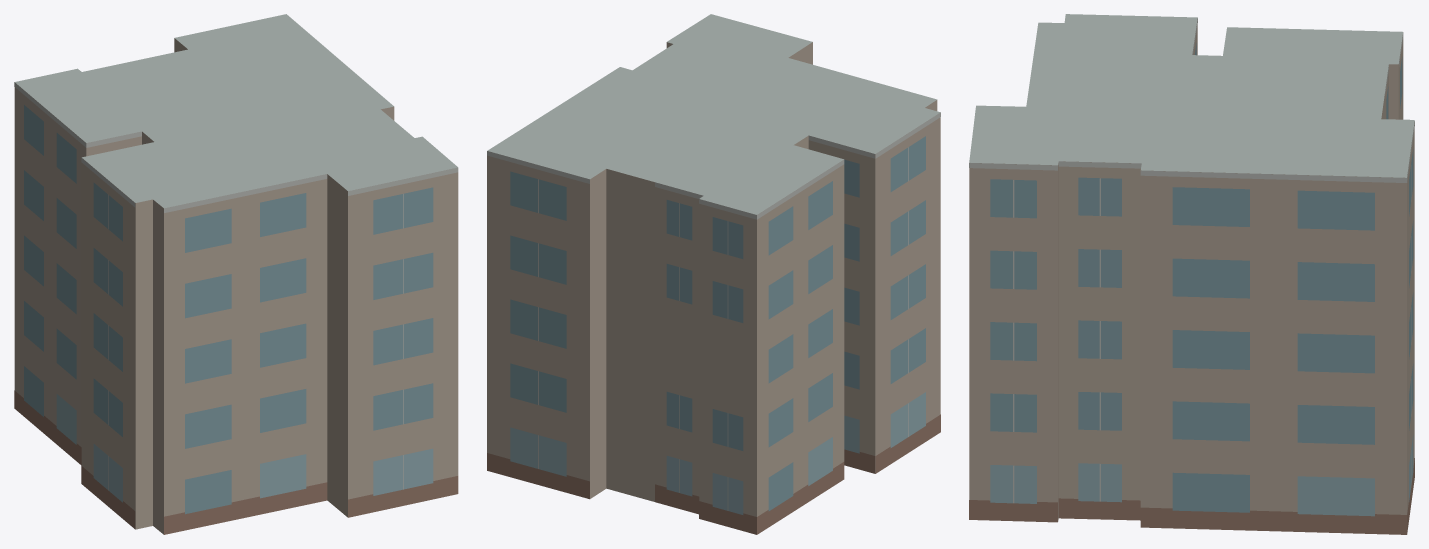
The model's file is survey-upis-32564474.glb.
3 views of the same model, side by side, from view 1: azimuth 30°, elevation 25°; view 2: azimuth 150°, elevation 25°; view 3: azimuth 270°, elevation 25° (orthographic). The views are drawn at different scales.
Parts seen in each view (by area): view 1: survey-upis-32564474.tmp; view 2: survey-upis-32564474.tmp; view 3: survey-upis-32564474.tmp.
Part boxes in pixels (x1,y1,x2,y2): survey-upis-32564474.tmp: (14, 14, 458, 534); survey-upis-32564474.tmp: (487, 14, 940, 534); survey-upis-32564474.tmp: (969, 14, 1414, 534).
Bounding box in the file's own units: 16.25 × 16.5 × 18.68.
